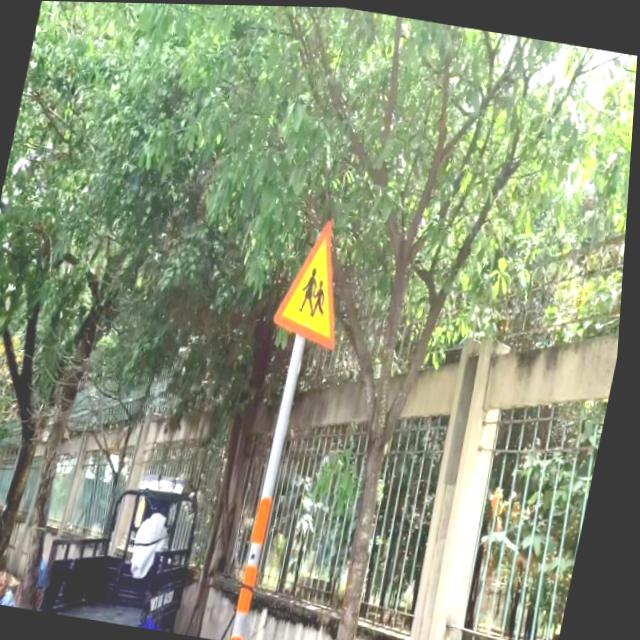Tre em: (271, 210, 366, 354)
